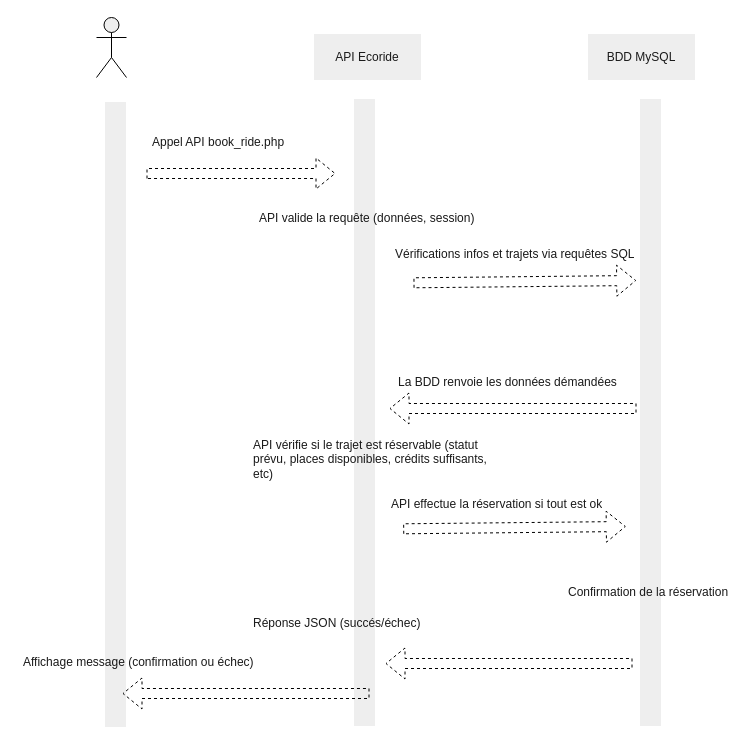
Some shapes in this 756 by 745 pixel diagram are drawn without their labels. Each missing label, with the centre of its shape:
"Client" belongs at pixel 111 47.
"L'utilisateur confirme une réservation" belongs at pixel 115 414.
